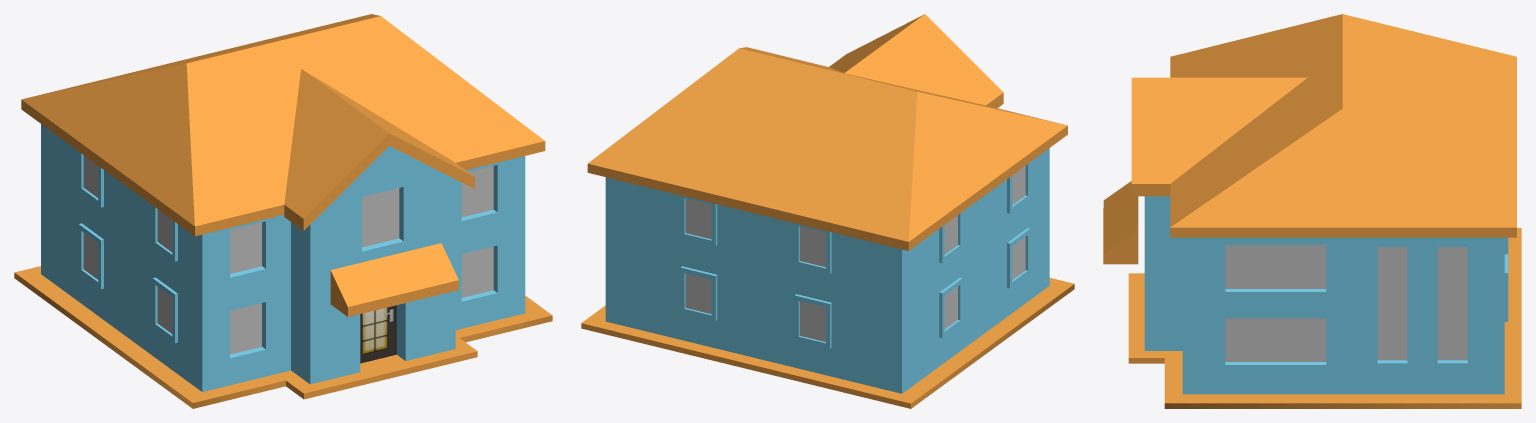
The model's file is Town_Bld_House_E.FBX.
3 views of the same model, side by side, from view 1: azimuth 30°, elevation 25°; view 2: azimuth 150°, elevation 25°; view 3: azimuth 270°, elevation 25° (orthographic). The views are drawn at different scales.
Parts seen in each view (by area): view 1: Town_Bld_House_E; view 2: Town_Bld_House_E; view 3: Town_Bld_House_E.
Part boxes in pixels (x1=…): Town_Bld_House_E: x1=14, y1=14, x2=552, y2=408; Town_Bld_House_E: x1=581, y1=14, x2=1074, y2=408; Town_Bld_House_E: x1=1103, y1=14, x2=1521, y2=408.
Bounding box in the file's own units: 623 × 431 × 628.
